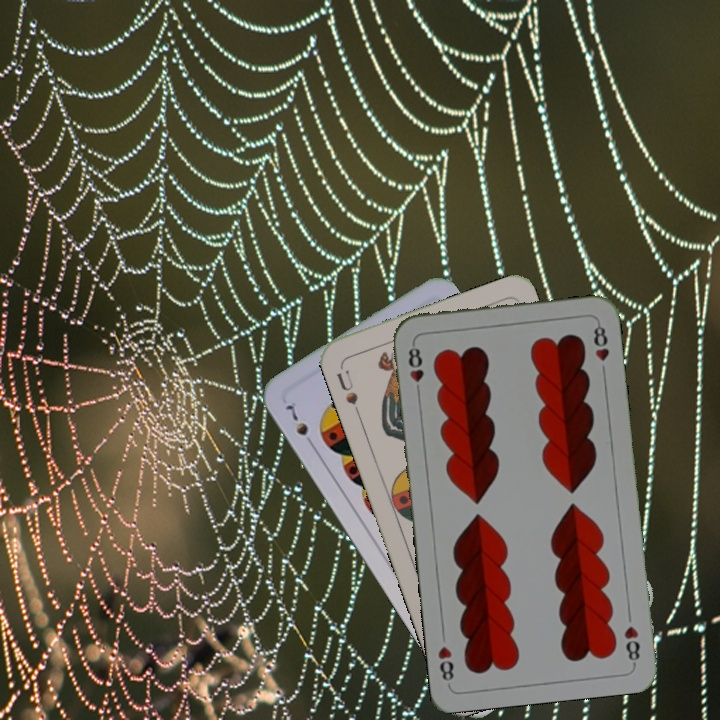H8: (404, 339, 426, 398), (620, 622, 643, 667)
S7: (281, 398, 318, 451)
SU: (332, 362, 363, 419)
